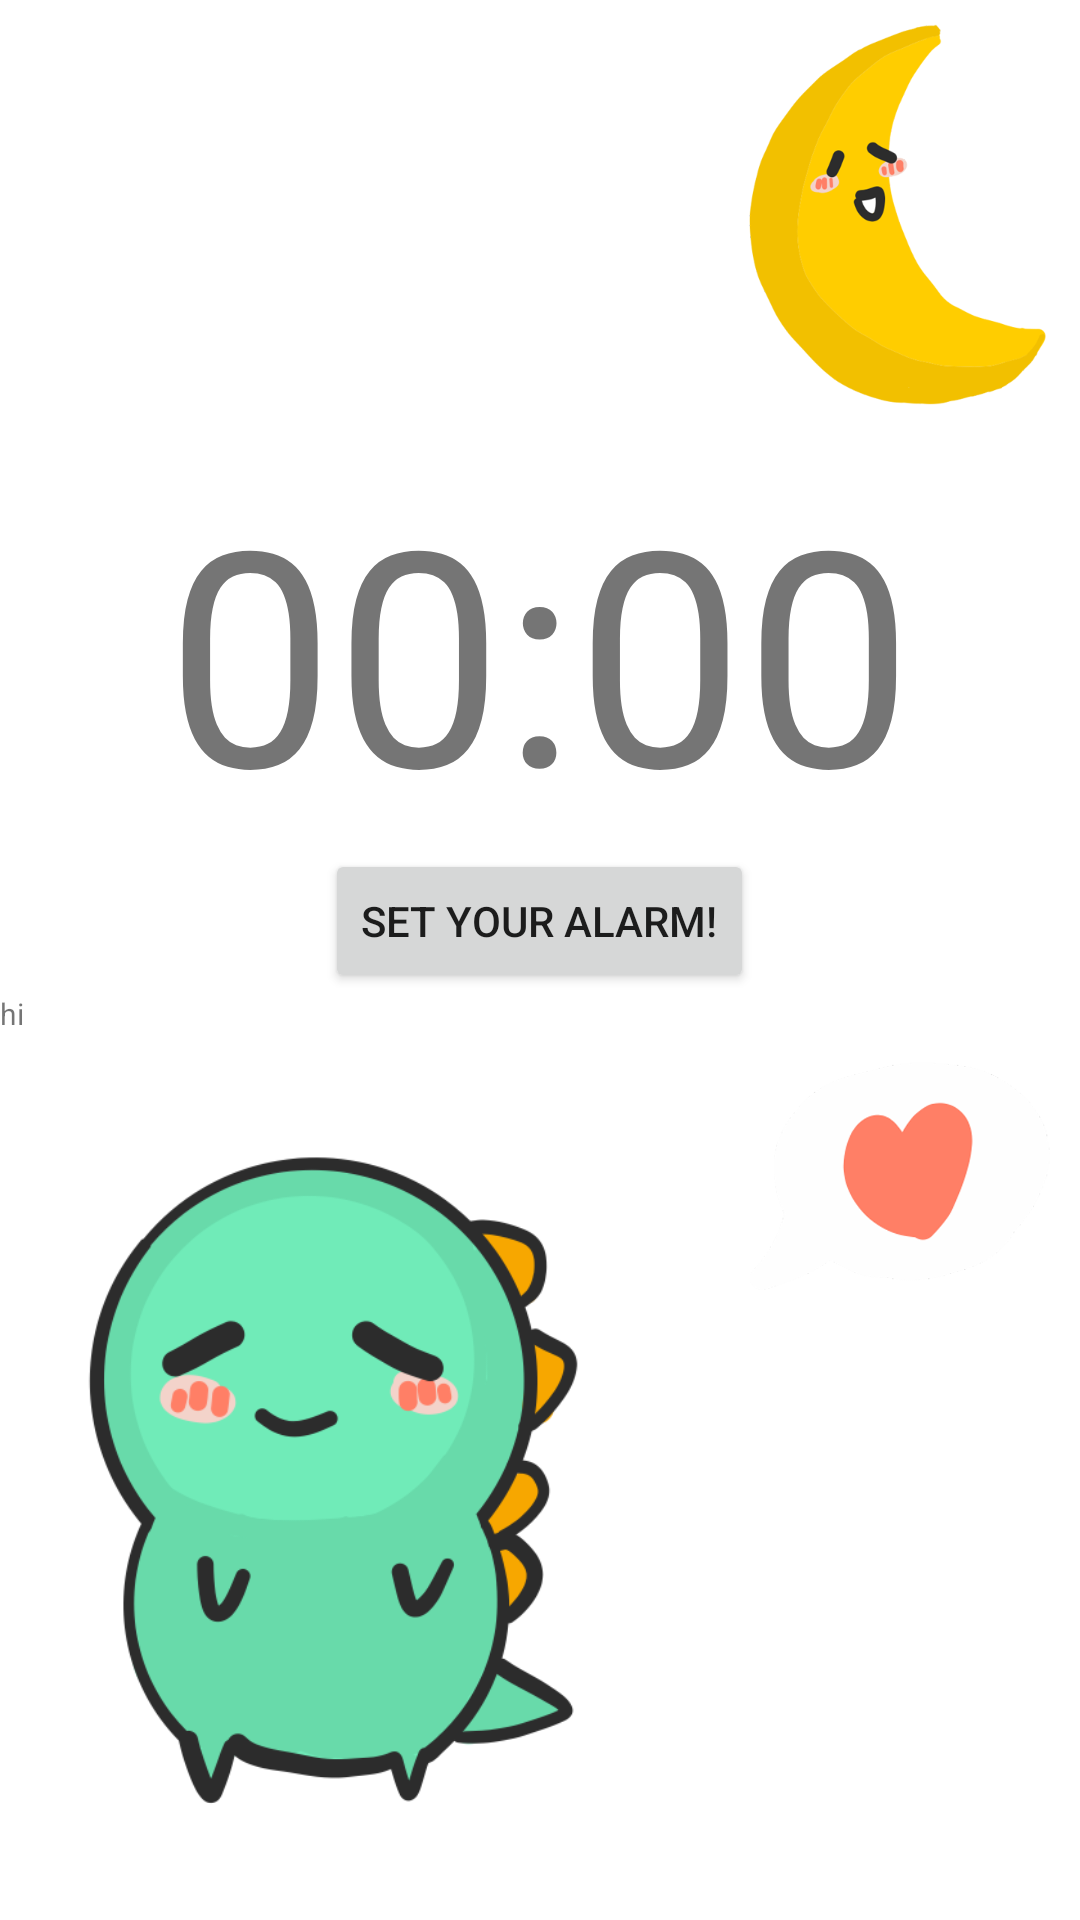

Icon click points for this 1080*1920 phone screenshot, format [x,y]:
speak heart: [917,1157]
